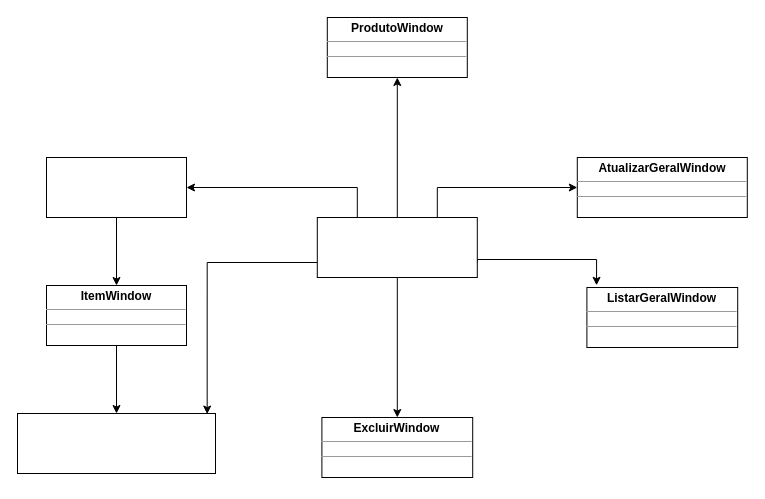
The diagram is 765 pixels wide and 499 high, and some of its shapes have lost their labels. Here are the shapes that lost their labels. From the top down, the box of each, then its label:
(46, 156, 186, 218): PedidoWindow
(316, 216, 477, 278): MainWindow
(16, 412, 216, 474): VincularProdutoWindow
